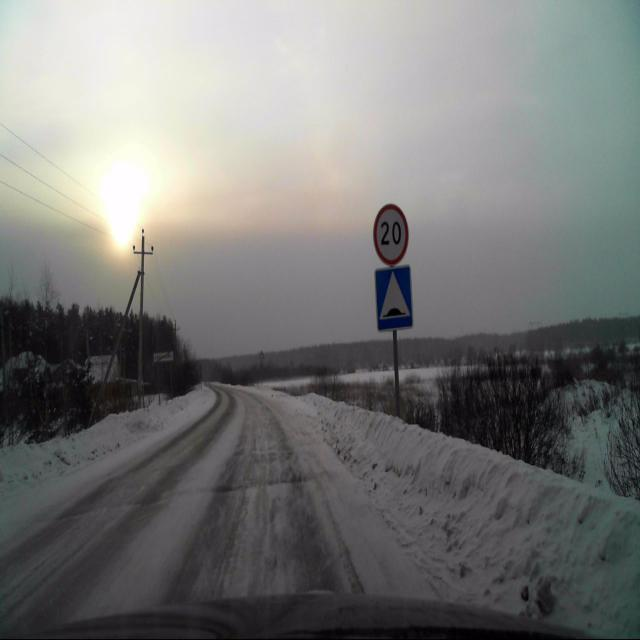object: (393, 333, 402, 421)
road sign: (374, 265, 414, 330)
